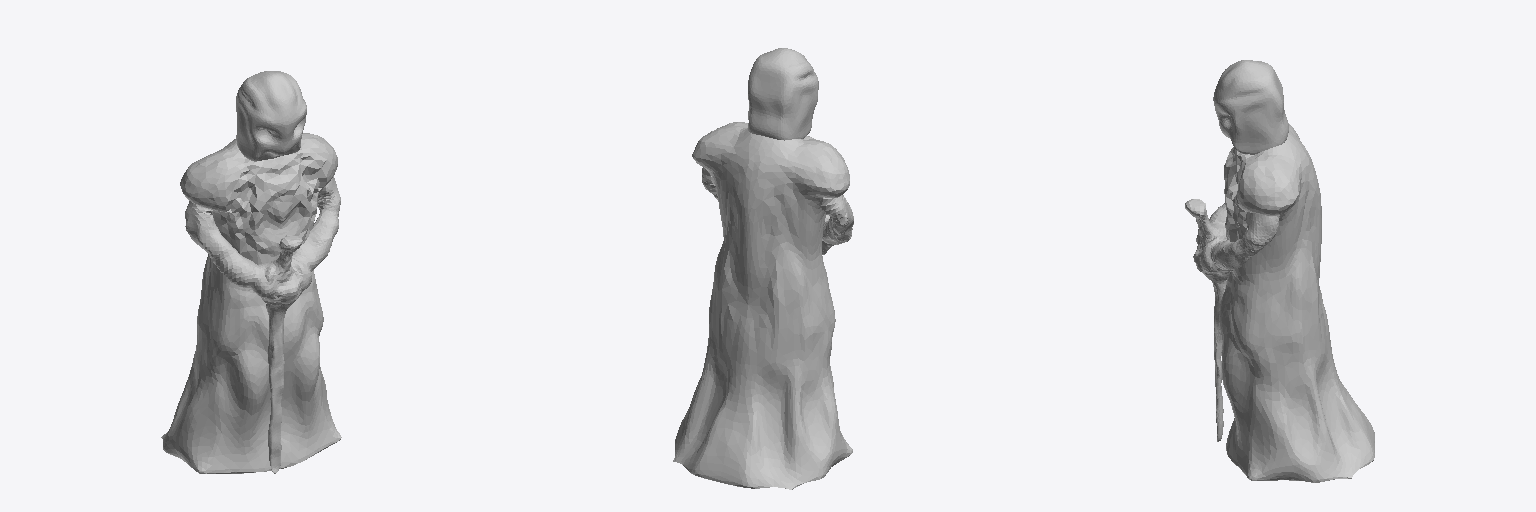
Rendered from lowpoly statue3.OBJ.
The picture shows the model from 3 angles: view 1: azimuth 30°, elevation 25°; view 2: azimuth 150°, elevation 25°; view 3: azimuth 270°, elevation 25°; orthographic projection.
Visible parts, largest first — view 1: polySurface1; view 2: polySurface1; view 3: polySurface1.
Boxes of the visible parts, box(x1,y1,x2,y2) form: polySurface1: box(161, 71, 341, 473); polySurface1: box(673, 48, 853, 489); polySurface1: box(1185, 60, 1374, 482).
Size of the model in its own units: 1.24 by 3.07 by 1.37.